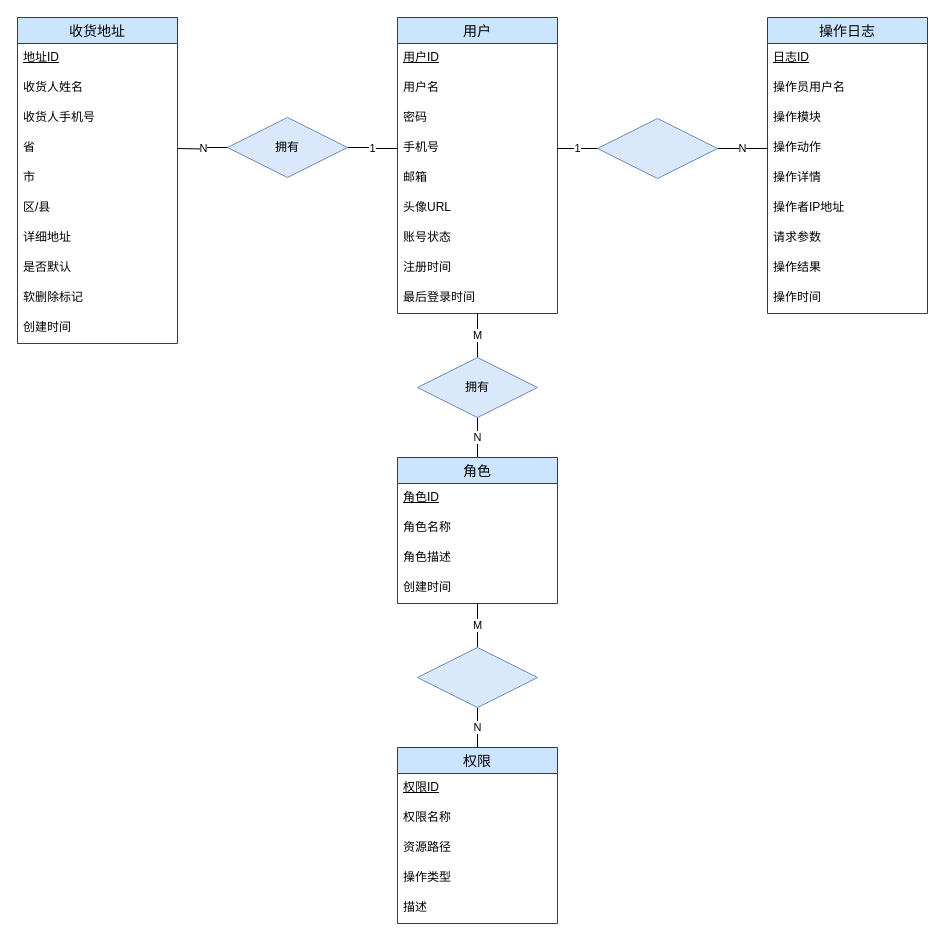
Some shapes in this 945 by 944 pixel diagram are drawn without their labels. Each missing label, with the centre of its shape:
包含: point (477, 677)
记录: point (657, 148)
